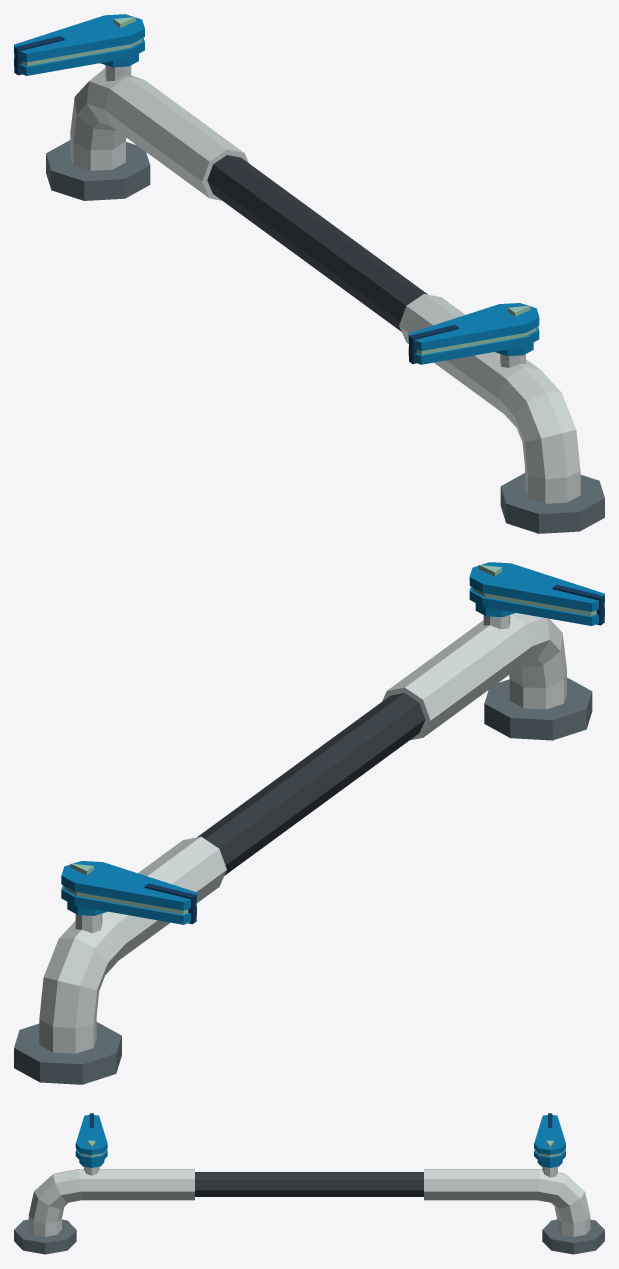
File: steamPipeA.FBX
3 views of the same model, one above another, from view 1: azimuth 30°, elevation 25°; view 2: azimuth 150°, elevation 25°; view 3: azimuth 270°, elevation 25° (orthographic). The views are drawn at different scales.
Parts seen in each view (by area): view 1: steamPipeA_body, steamPipeA_valveB, steamPipeA_valveA; view 2: steamPipeA_body, steamPipeA_valveB, steamPipeA_valveA; view 3: steamPipeA_body, steamPipeA_valveB, steamPipeA_valveA.
Boxes of the visible parts, bbox=[...] form: steamPipeA_body: bbox=[46, 68, 604, 533]; steamPipeA_valveB: bbox=[14, 14, 144, 81]; steamPipeA_valveA: bbox=[408, 303, 539, 367]; steamPipeA_body: bbox=[14, 613, 592, 1084]; steamPipeA_valveB: bbox=[61, 861, 196, 933]; steamPipeA_valveA: bbox=[469, 562, 604, 629]; steamPipeA_body: bbox=[14, 1169, 604, 1254]; steamPipeA_valveB: bbox=[534, 1113, 565, 1177]; steamPipeA_valveA: bbox=[75, 1113, 107, 1175].
Bounding box in the file's own units: 1.83 × 2.03 × 10.82.
